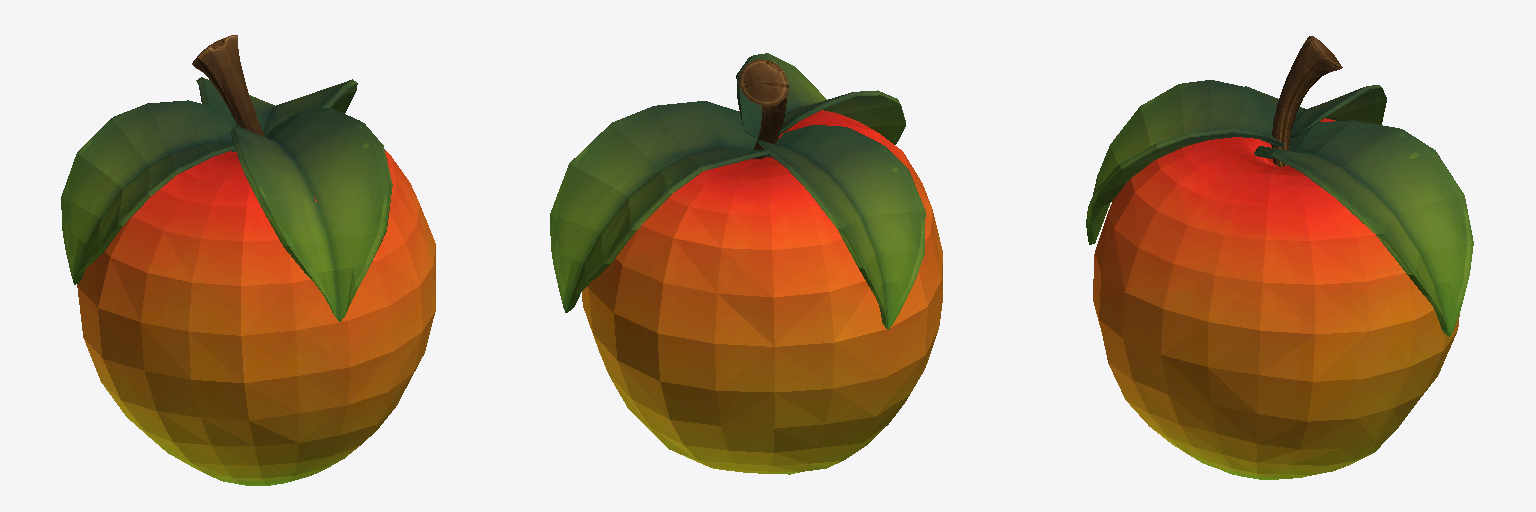
3 views of the same model, side by side, from view 1: azimuth 30°, elevation 25°; view 2: azimuth 150°, elevation 25°; view 3: azimuth 270°, elevation 25° (orthographic).
Visible parts, largest first — view 1: SM_GP_Wumpa_03.mo_SM_GP_Wumpa_03.md; view 2: SM_GP_Wumpa_03.mo_SM_GP_Wumpa_03.md; view 3: SM_GP_Wumpa_03.mo_SM_GP_Wumpa_03.md.
Part boxes in pixels (x1,y1,x2,y2): SM_GP_Wumpa_03.mo_SM_GP_Wumpa_03.md: (61, 35, 435, 485); SM_GP_Wumpa_03.mo_SM_GP_Wumpa_03.md: (550, 53, 942, 474); SM_GP_Wumpa_03.mo_SM_GP_Wumpa_03.md: (1086, 36, 1473, 479).
Size of the model in its own units: 0.1713 by 0.2169 by 0.1808.
Materials: 1 (1 with a texture image).